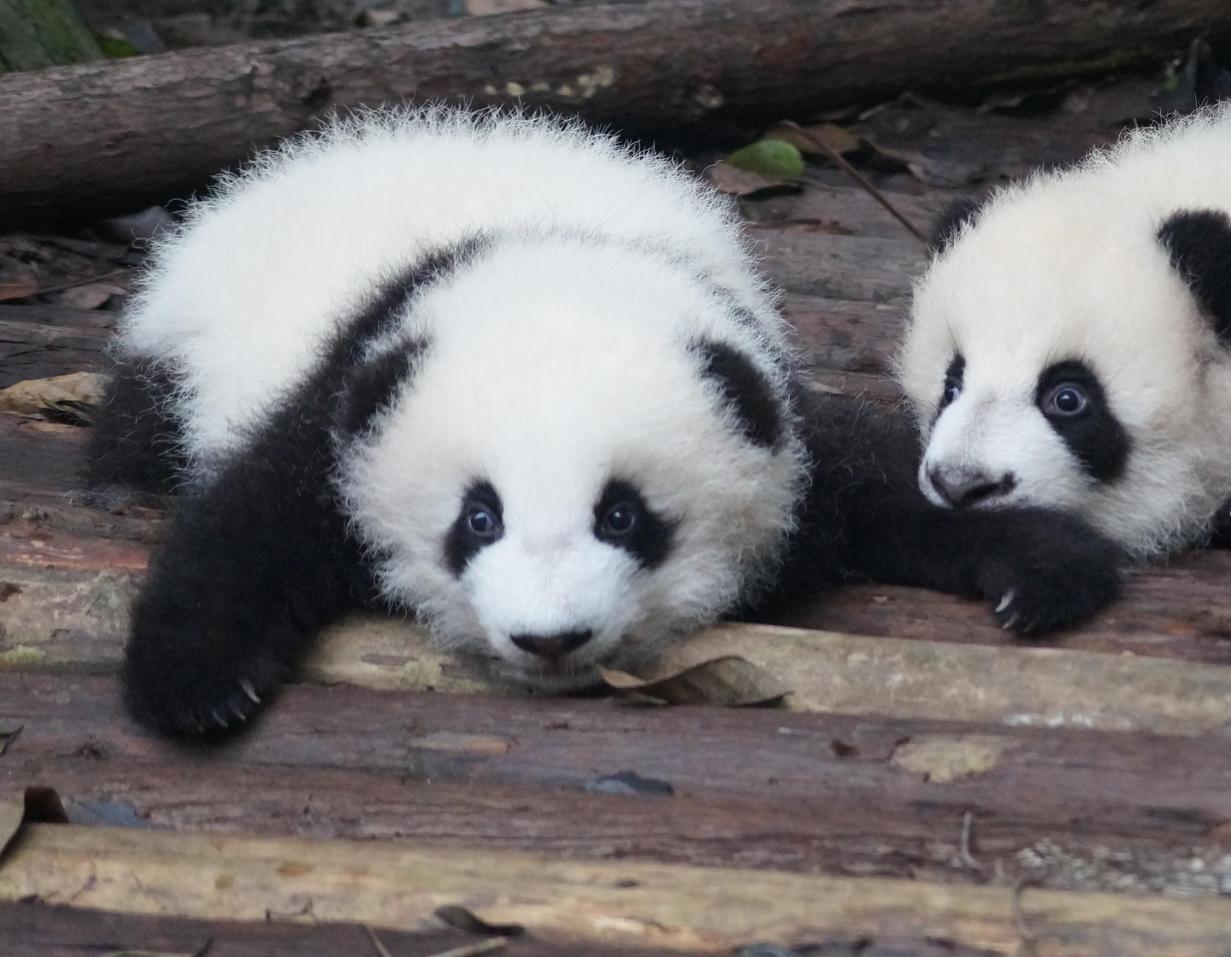panda: (93, 112, 837, 750)
